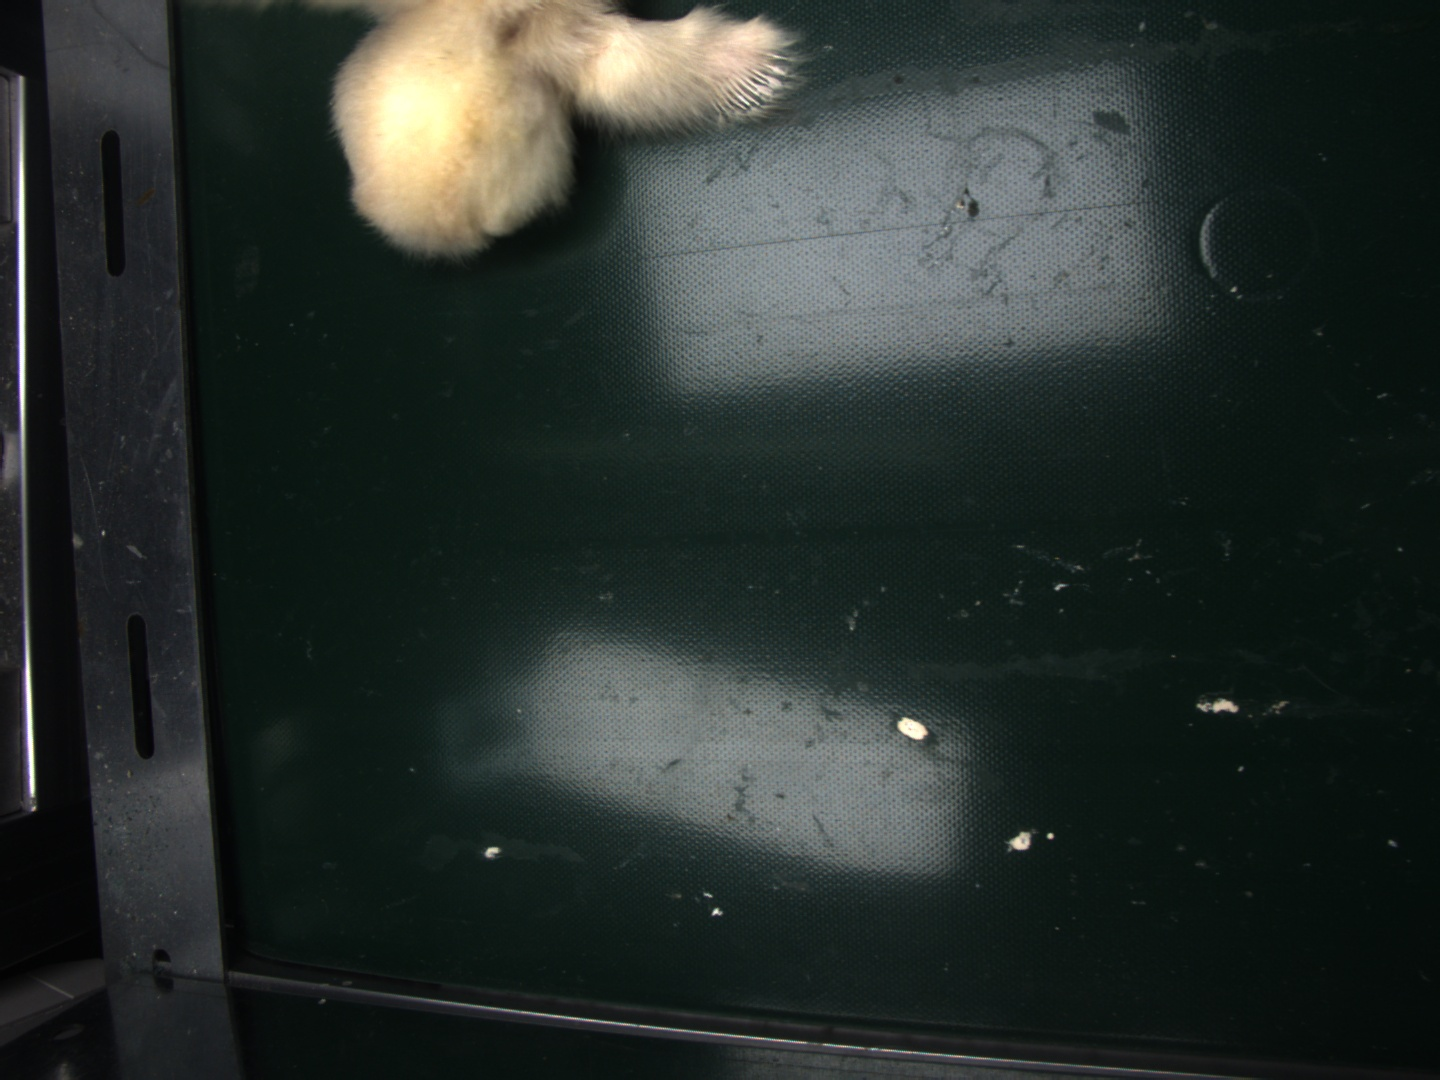male: (715, 52, 787, 115)
